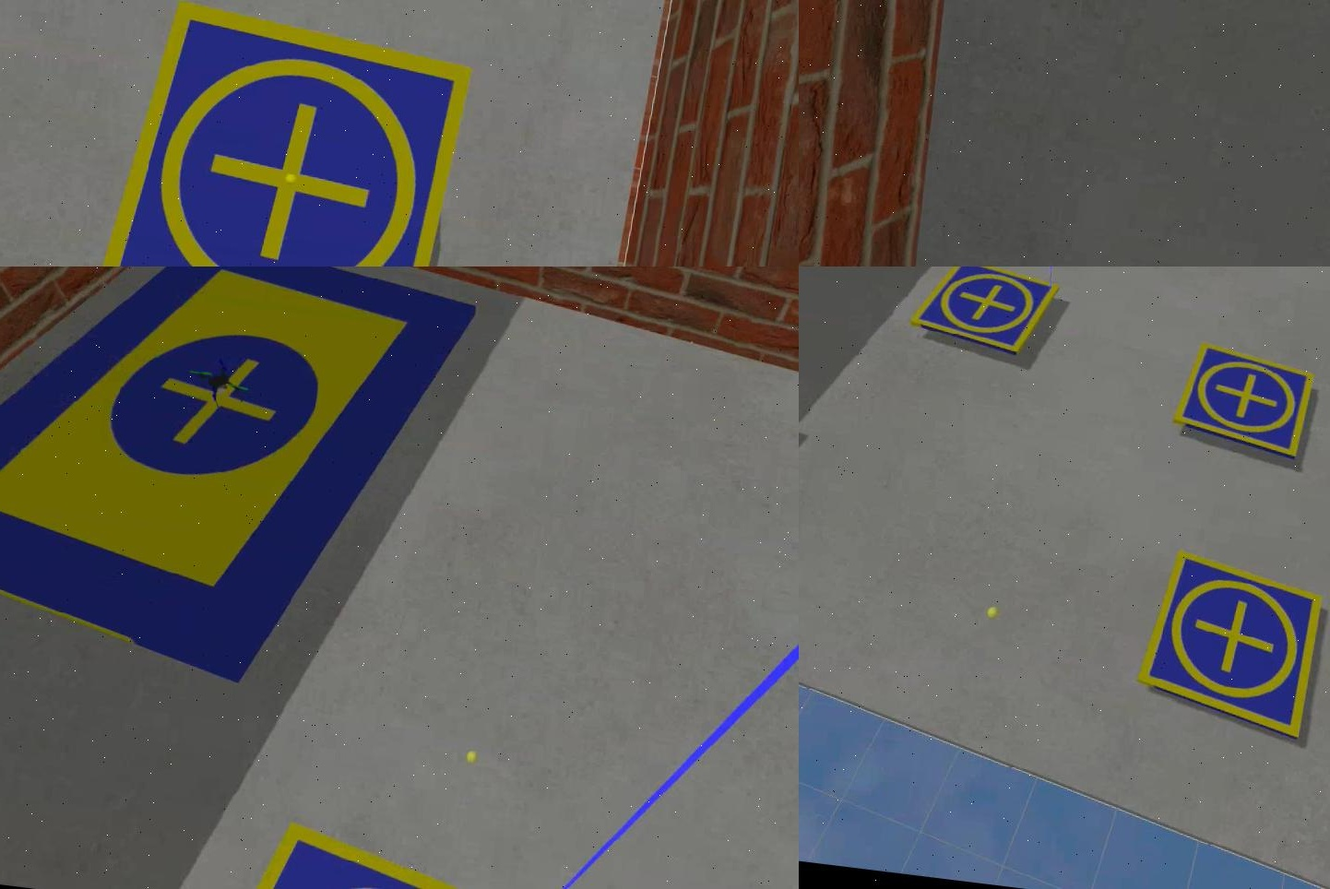large_base: (0, 267, 482, 708)
small_base: (82, 1, 481, 267), (1135, 550, 1327, 743), (242, 817, 546, 889), (1167, 341, 1316, 461), (907, 267, 1052, 356)
